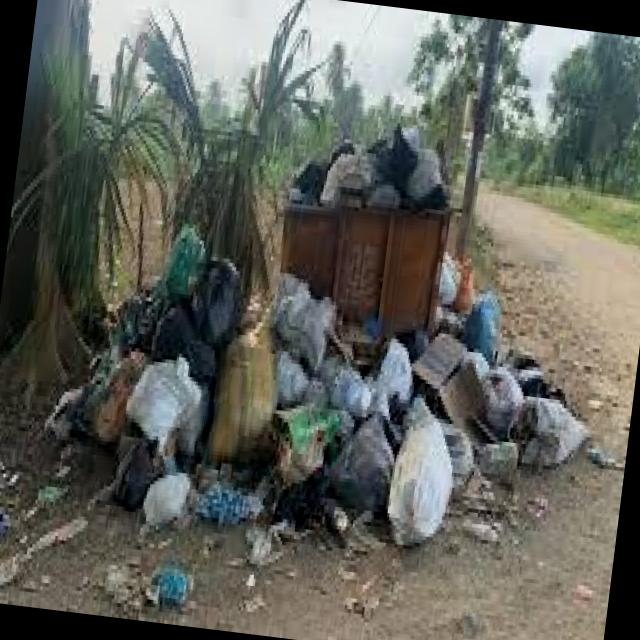garbage: (43, 88, 635, 610)
